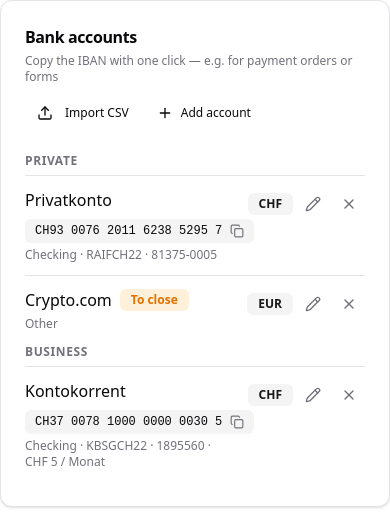
Test case: BankAccountsCard › copies the raw normalized IBAN and shows the copied feedback
Note: First copy button belongs to the private Privatkonto row.
What coordinates should you click on to do the following:
click the button named "Copy IBAN" next to "CH93 0076 2011 6238 5295 7"
I would click on:
 (237, 231)
Its box is [230, 224, 244, 238].
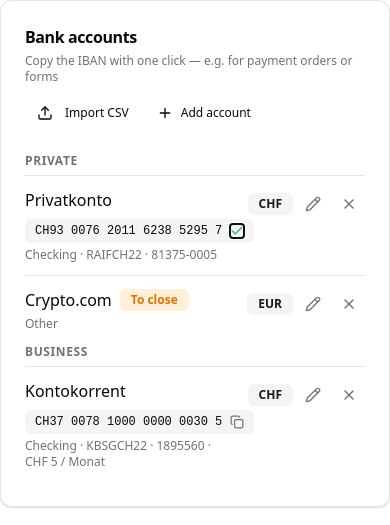
Result: the button named "IBAN copied" is shown at [230, 224, 244, 238]
